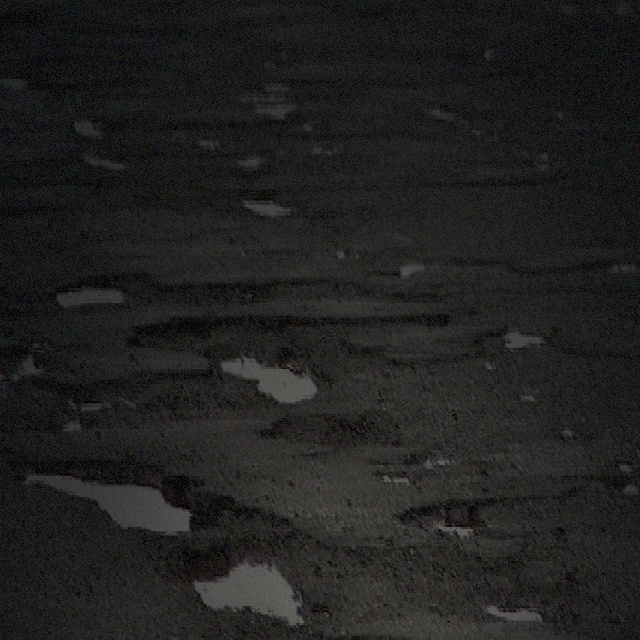pothole: (17, 450, 244, 538), (179, 540, 308, 631), (218, 346, 322, 405), (50, 266, 156, 312), (388, 493, 491, 535), (158, 273, 276, 307), (129, 318, 219, 360)
